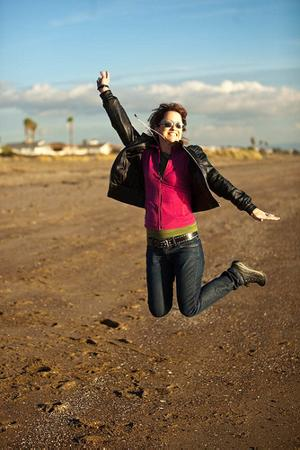person: (96, 66, 279, 322)
